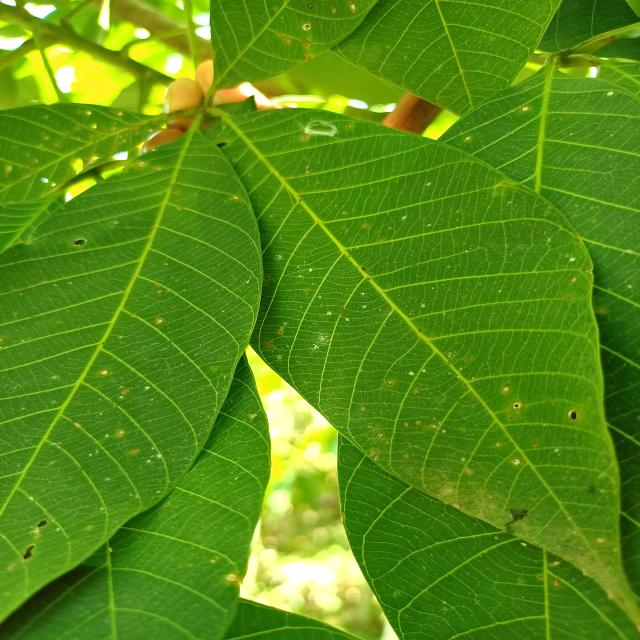Colletotrichum: (510, 458, 521, 466), (512, 402, 521, 409), (101, 369, 110, 375), (157, 319, 164, 323), (387, 381, 393, 385), (533, 440, 537, 444), (466, 356, 470, 359), (99, 384, 102, 386)
